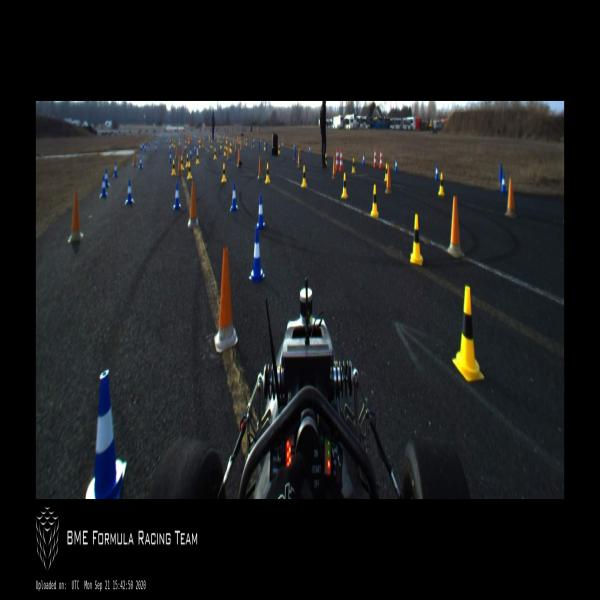blue_cone: (86, 370, 126, 499), (249, 226, 265, 282), (257, 194, 265, 229), (230, 181, 239, 211), (173, 183, 181, 209), (126, 180, 133, 204), (100, 177, 106, 197), (501, 173, 506, 193), (104, 169, 109, 188), (138, 154, 142, 168), (435, 164, 438, 179), (114, 162, 117, 176), (362, 153, 365, 164), (169, 151, 172, 162), (395, 158, 397, 172), (308, 146, 311, 154), (140, 143, 142, 151), (190, 150, 192, 158), (194, 145, 196, 153), (155, 144, 157, 152), (282, 142, 283, 149), (145, 145, 146, 152), (149, 141, 150, 147)
large_orange_cone: (335, 148, 339, 170), (340, 149, 344, 170), (373, 149, 377, 168), (379, 149, 383, 168)
yellow_cone: (452, 286, 485, 381), (410, 214, 423, 264), (370, 184, 378, 216), (341, 173, 348, 198), (438, 173, 445, 196), (301, 166, 307, 187), (265, 163, 270, 182), (187, 162, 192, 178), (222, 163, 226, 182), (171, 160, 176, 175), (384, 163, 387, 180), (352, 158, 355, 172), (181, 155, 184, 169), (213, 148, 217, 158), (196, 152, 199, 164), (186, 153, 188, 166), (325, 153, 327, 165), (224, 146, 226, 156), (278, 144, 280, 154), (230, 143, 232, 152), (210, 140, 212, 148), (220, 140, 222, 148), (264, 141, 265, 151), (246, 138, 247, 145)
